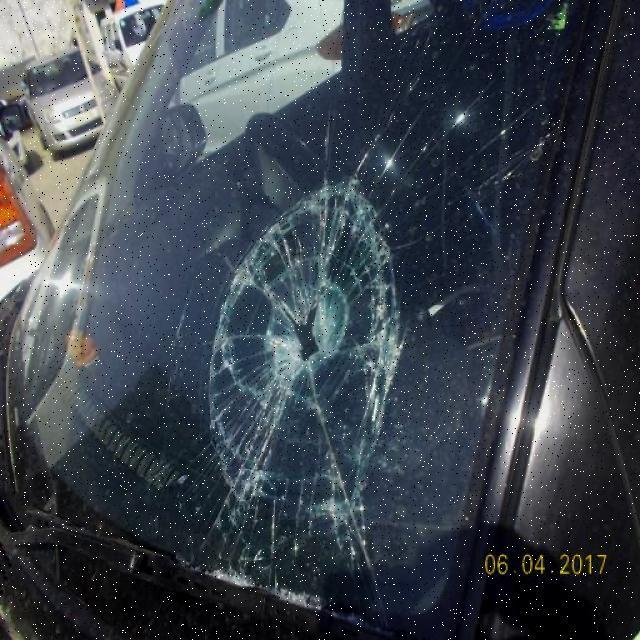car damage: (208, 181, 403, 522)
